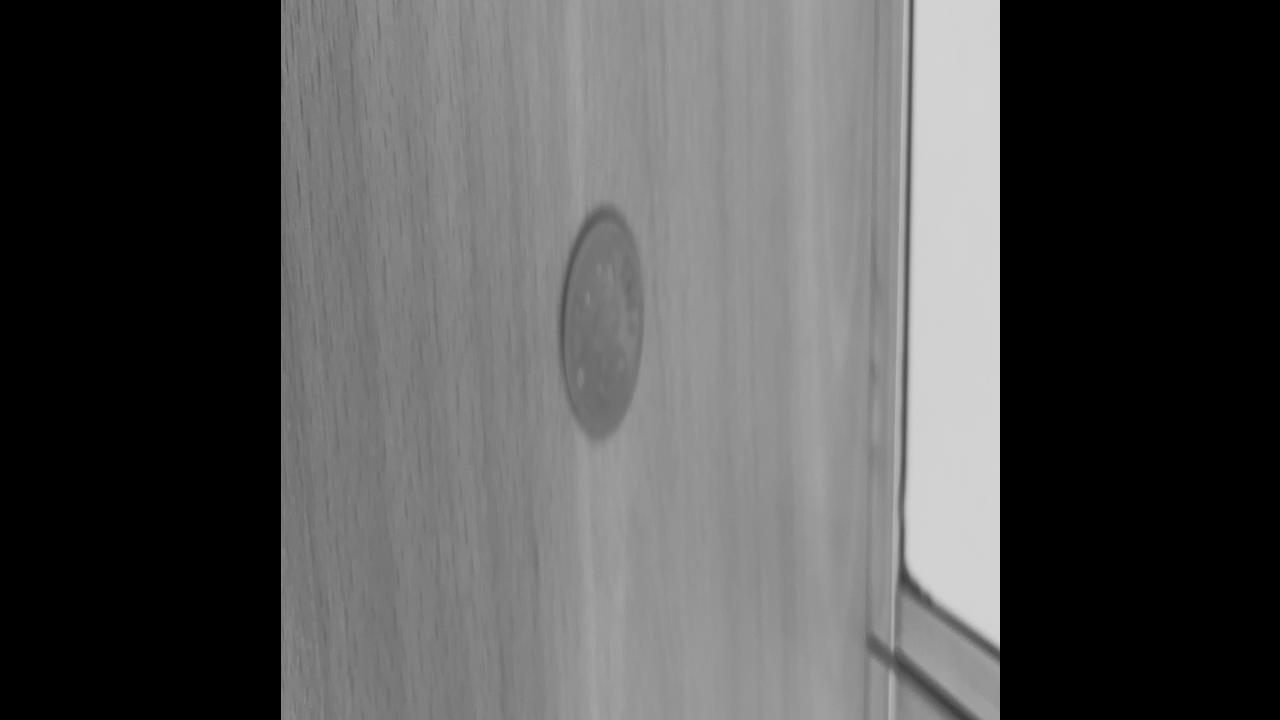coin: (560, 210, 646, 443)
